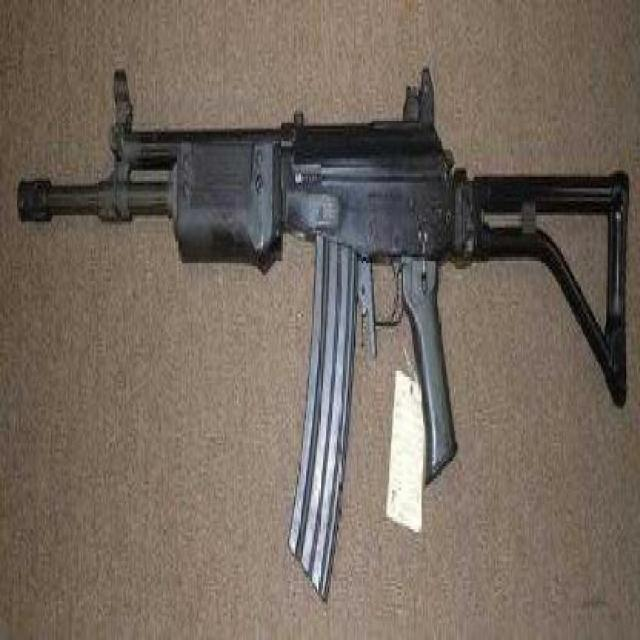weapon: (17, 67, 628, 588)
